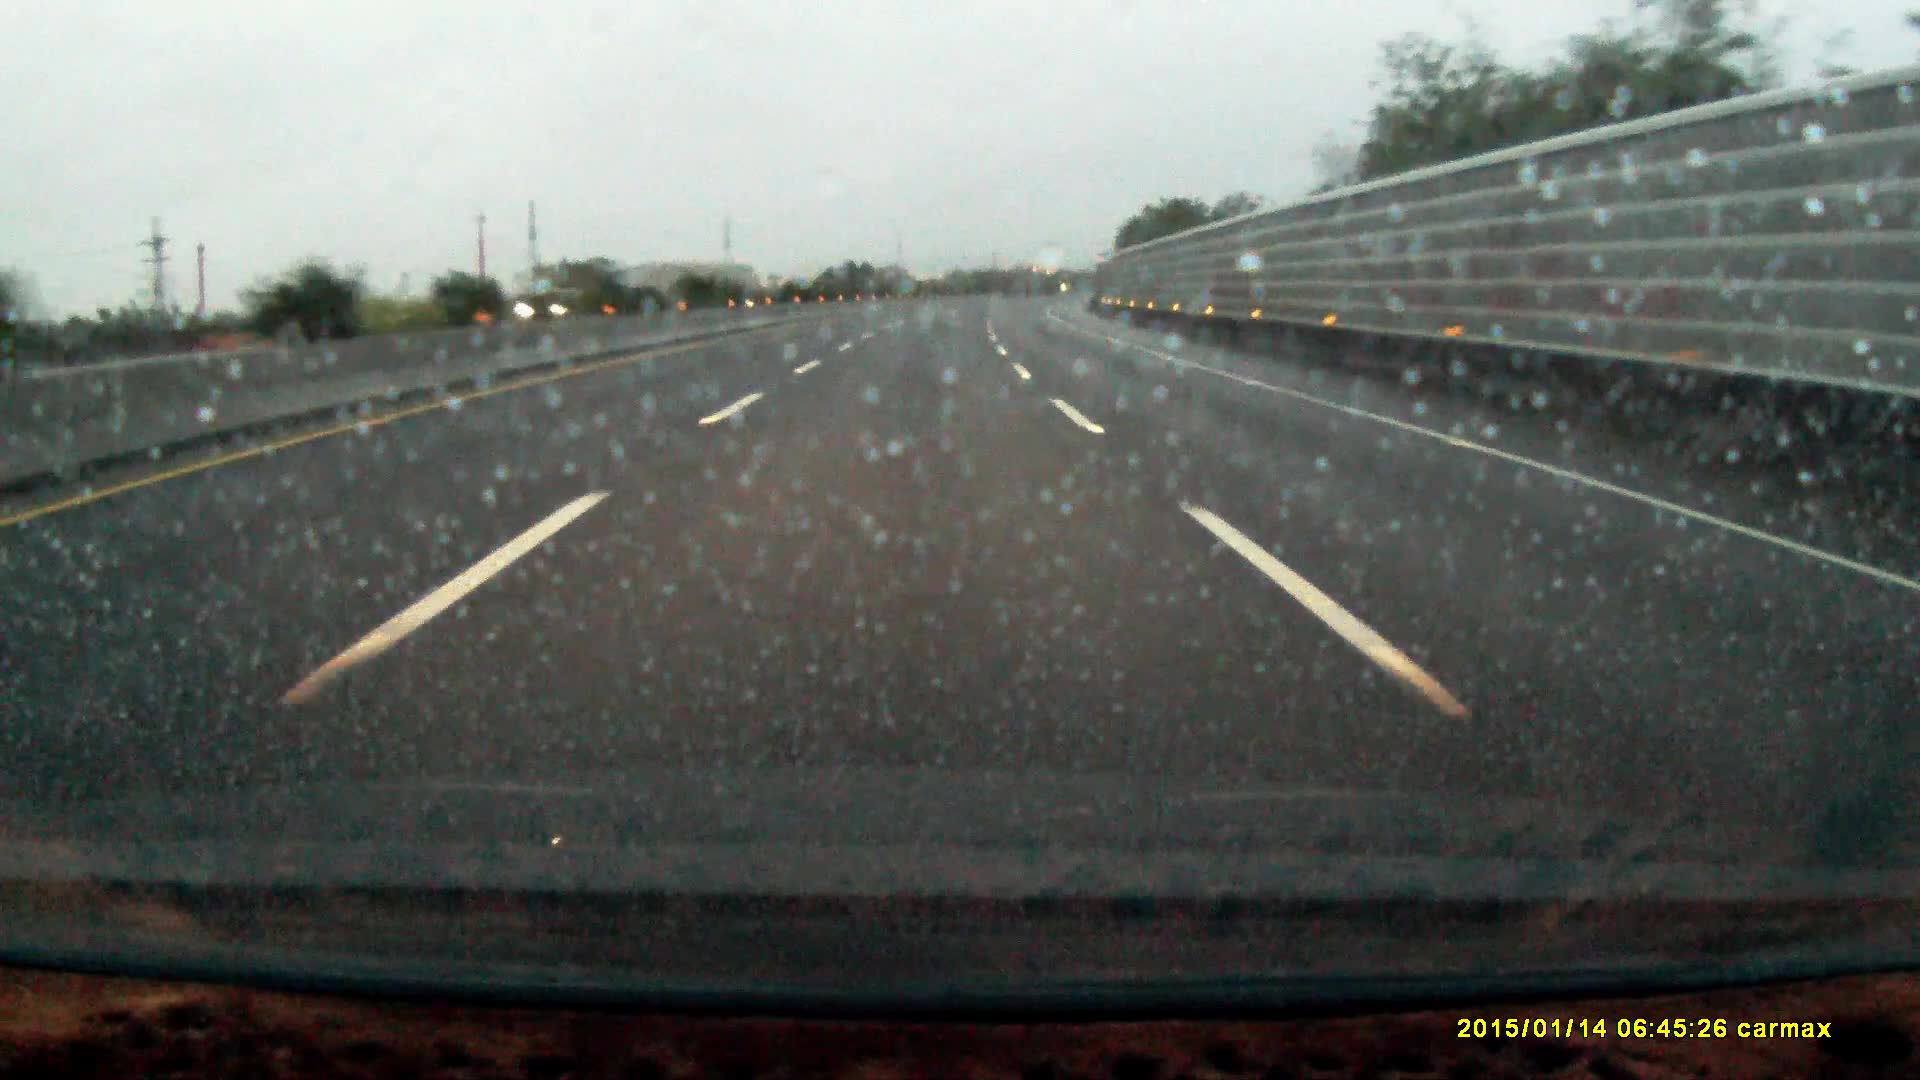vehicle: (506, 287, 593, 323)
